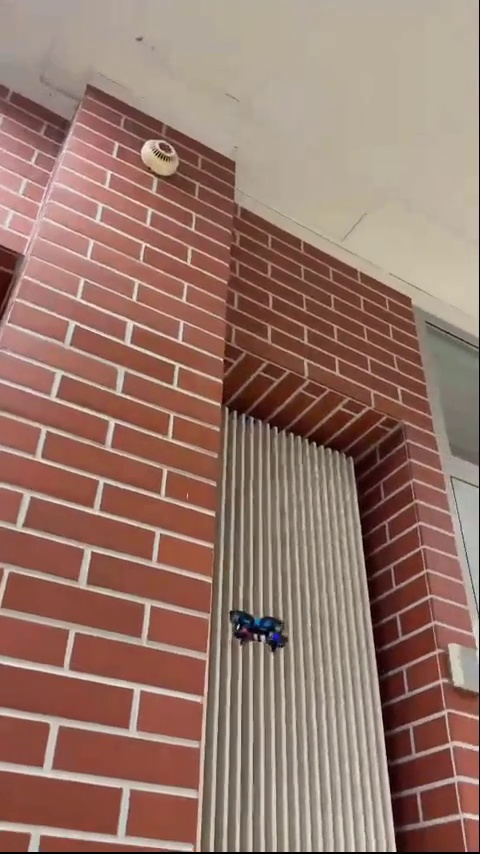drone: (224, 611, 287, 648)
